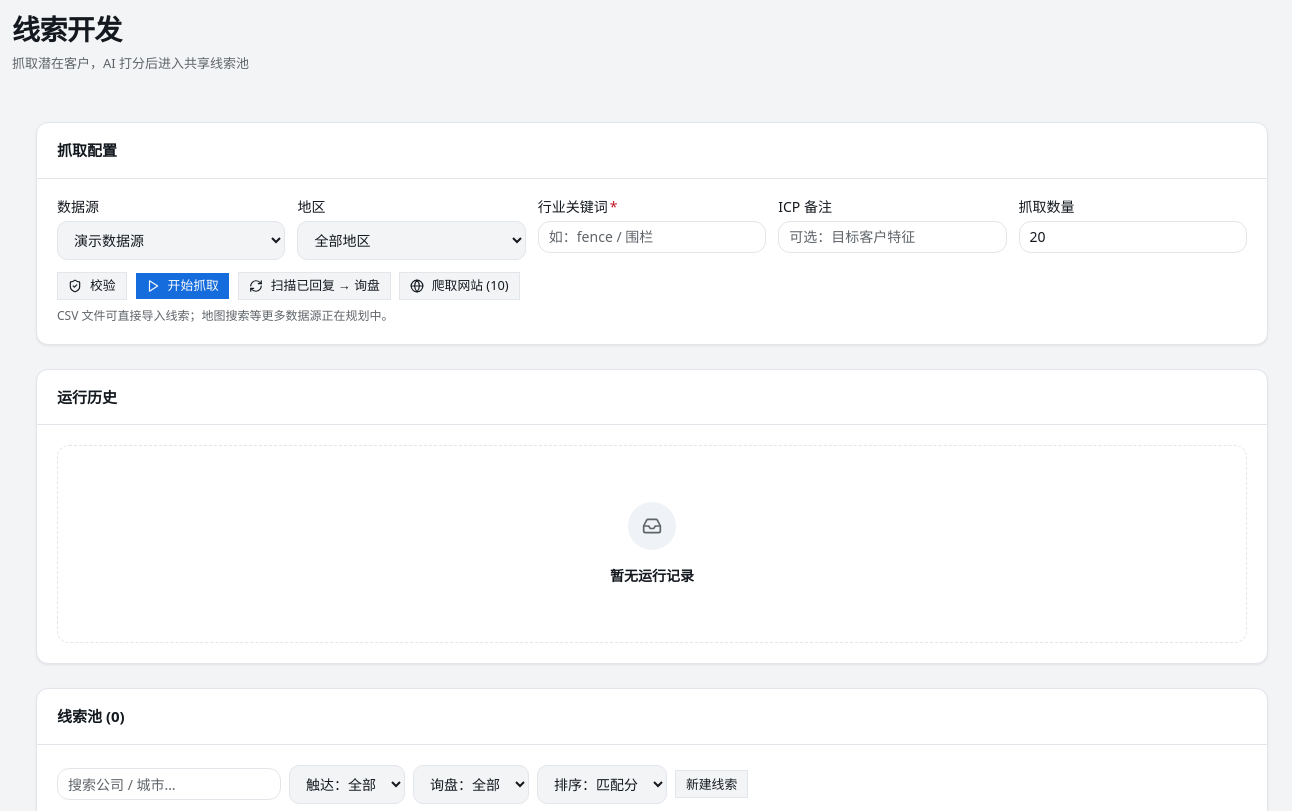
Test: 线索开发 · 扫描已回复（L4） › 扫描失败 → 页内显示原因
This screenshot has width=1292, height=811.
Click the button "扫描已回复 → 询盘" at x=314, y=286, box [238,272,391,300]
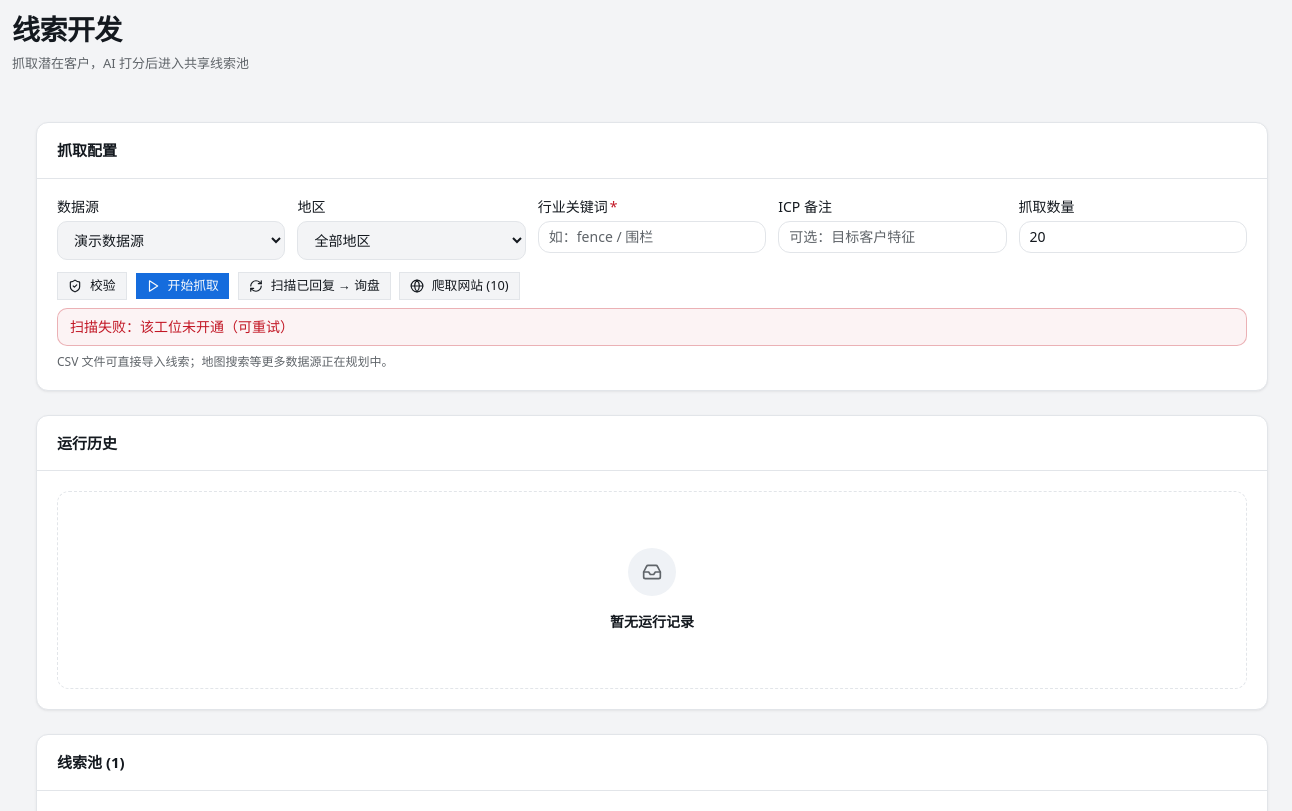
Result: the message "扫描失败：该工位未开通（可重试）" is shown at [57,308,1247,346]
